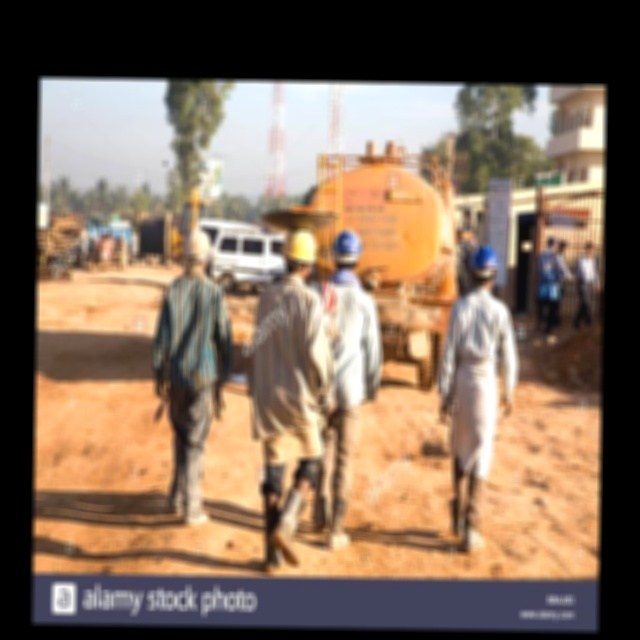Con_Casco: (282, 230, 316, 275)
Sin_Chaleco: (165, 273, 219, 393), (454, 291, 506, 373)
